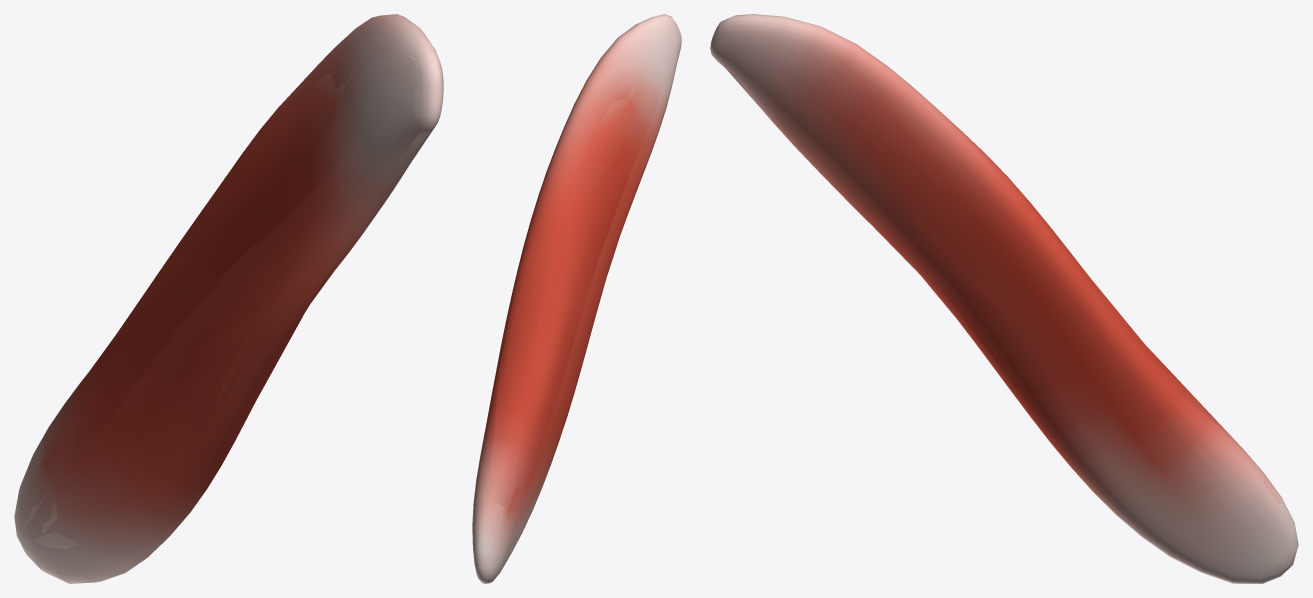
File: L Anconeus.fbx
The picture shows the model from 3 angles, left to right: view 1: azimuth 30°, elevation 25°; view 2: azimuth 150°, elevation 25°; view 3: azimuth 270°, elevation 25°; orthographic projection. The views are drawn at different scales.
Visible parts, largest first — view 1: L Anconeus, L Anconeus low; view 2: L Anconeus, L Anconeus low; view 3: L Anconeus, L Anconeus low.
Boxes of the visible parts, x1,y1,x2,y2 form: L Anconeus: (14,14,443,583); L Anconeus low: (22,14,437,579); L Anconeus: (472,14,681,583); L Anconeus low: (474,20,680,583); L Anconeus: (710,14,1298,583); L Anconeus low: (715,16,1296,572).
Bounding box in the file's own units: 1.18 × 7.86 × 7.21.
